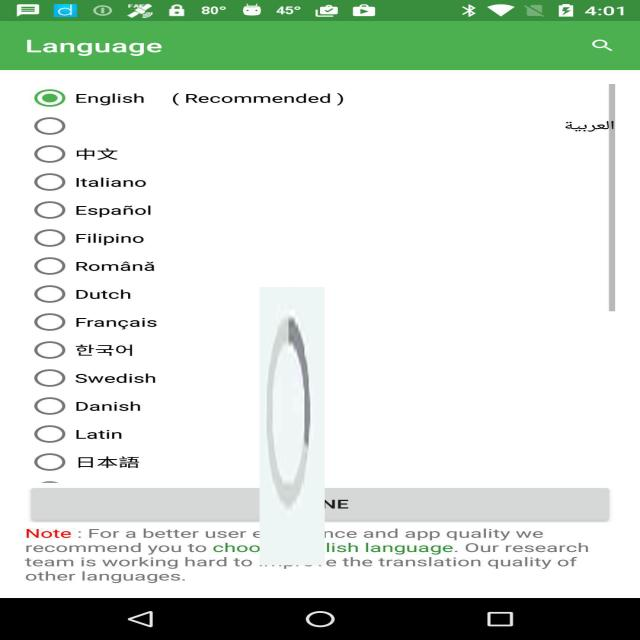misdirection: (260, 287, 324, 565)
